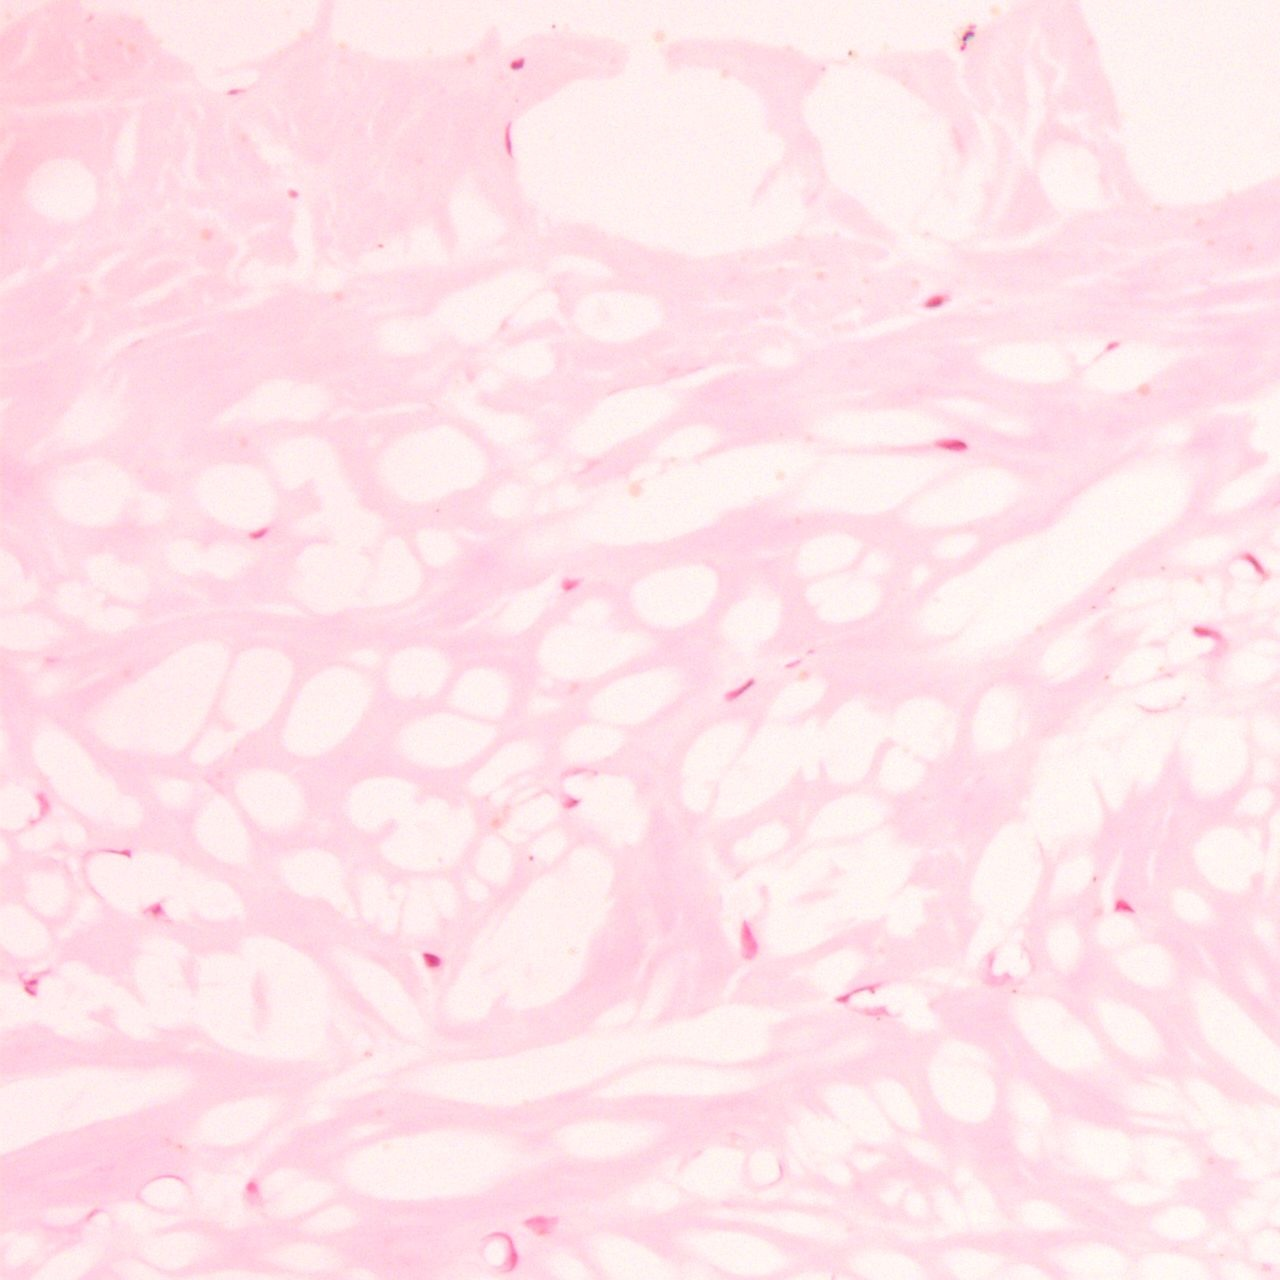nucleus-AC: (720, 674, 758, 706), (919, 287, 953, 313), (1242, 549, 1269, 579), (740, 919, 758, 959), (934, 437, 969, 452), (1192, 626, 1223, 639), (143, 903, 166, 918), (561, 576, 583, 592), (247, 525, 268, 542), (504, 122, 513, 156), (422, 952, 441, 968), (244, 1179, 258, 1200), (1112, 899, 1133, 913), (960, 29, 974, 50), (23, 978, 38, 996), (564, 795, 583, 808), (511, 56, 525, 70), (286, 188, 300, 199), (225, 88, 243, 95), (1104, 342, 1118, 349)
